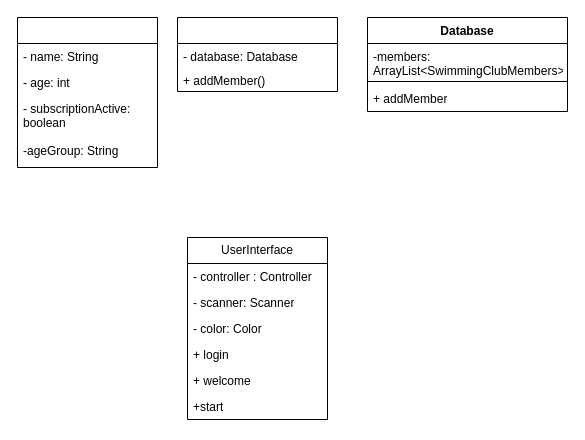
The diagram is 585 pixels wide and 440 high, and some of its shapes have lost their labels. Here are the shapes that lost their labels. From the top down, the box of each, then its label:
(176, 16, 338, 92): Controller
(16, 16, 158, 168): SwimmingClubMembers
